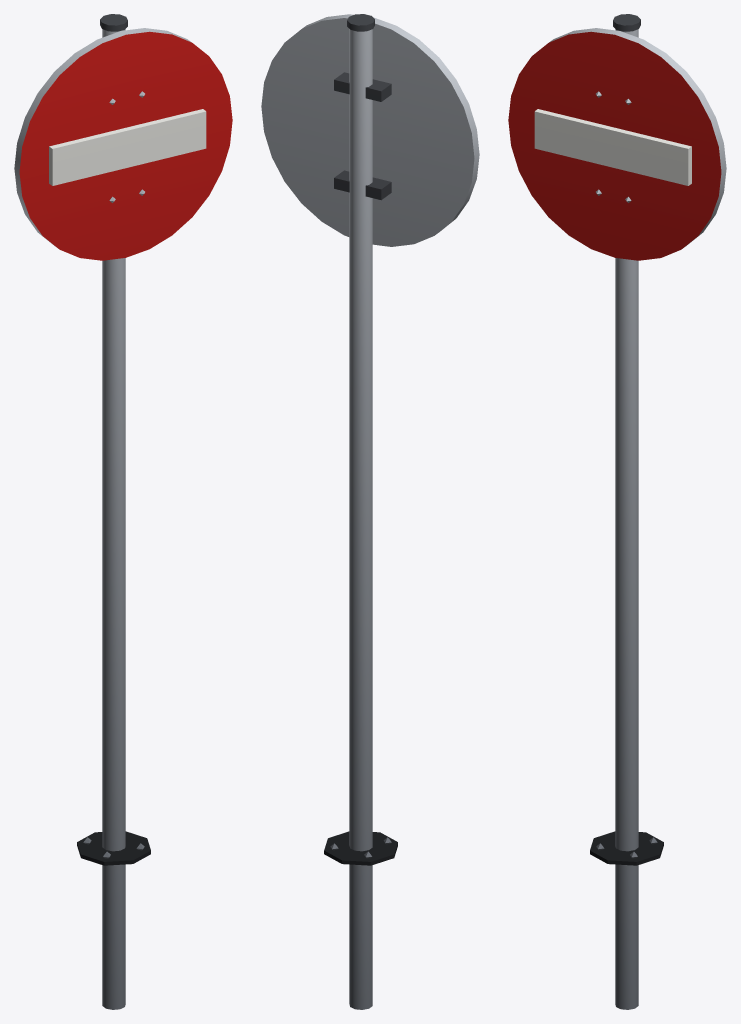
Rendered from Sign_NoEntry.fbx.
The picture shows the model from 3 angles, left to right: view 1: azimuth 30°, elevation 25°; view 2: azimuth 150°, elevation 25°; view 3: azimuth 330°, elevation 25°; orthographic projection.
Visible parts, largest first — view 1: Sign_NoEntry_LOD0; view 2: Sign_NoEntry_LOD0; view 3: Sign_NoEntry_LOD0.
Boxes of the visible parts, box(x1,y1,x2,y2) form: Sign_NoEntry_LOD0: box(14, 14, 232, 1009); Sign_NoEntry_LOD0: box(261, 14, 479, 1009); Sign_NoEntry_LOD0: box(508, 14, 726, 1009).
Size of what is drawn, in the model's own units: 0.72 by 3.18 by 0.224.
Materials: 1 (1 with a texture image).
